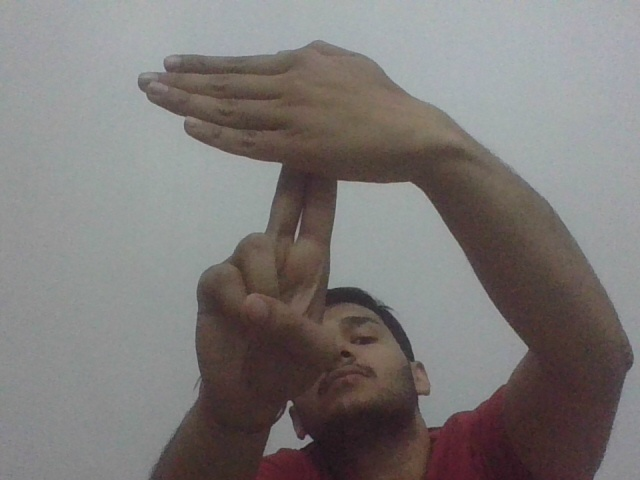N: (133, 36, 397, 241)
